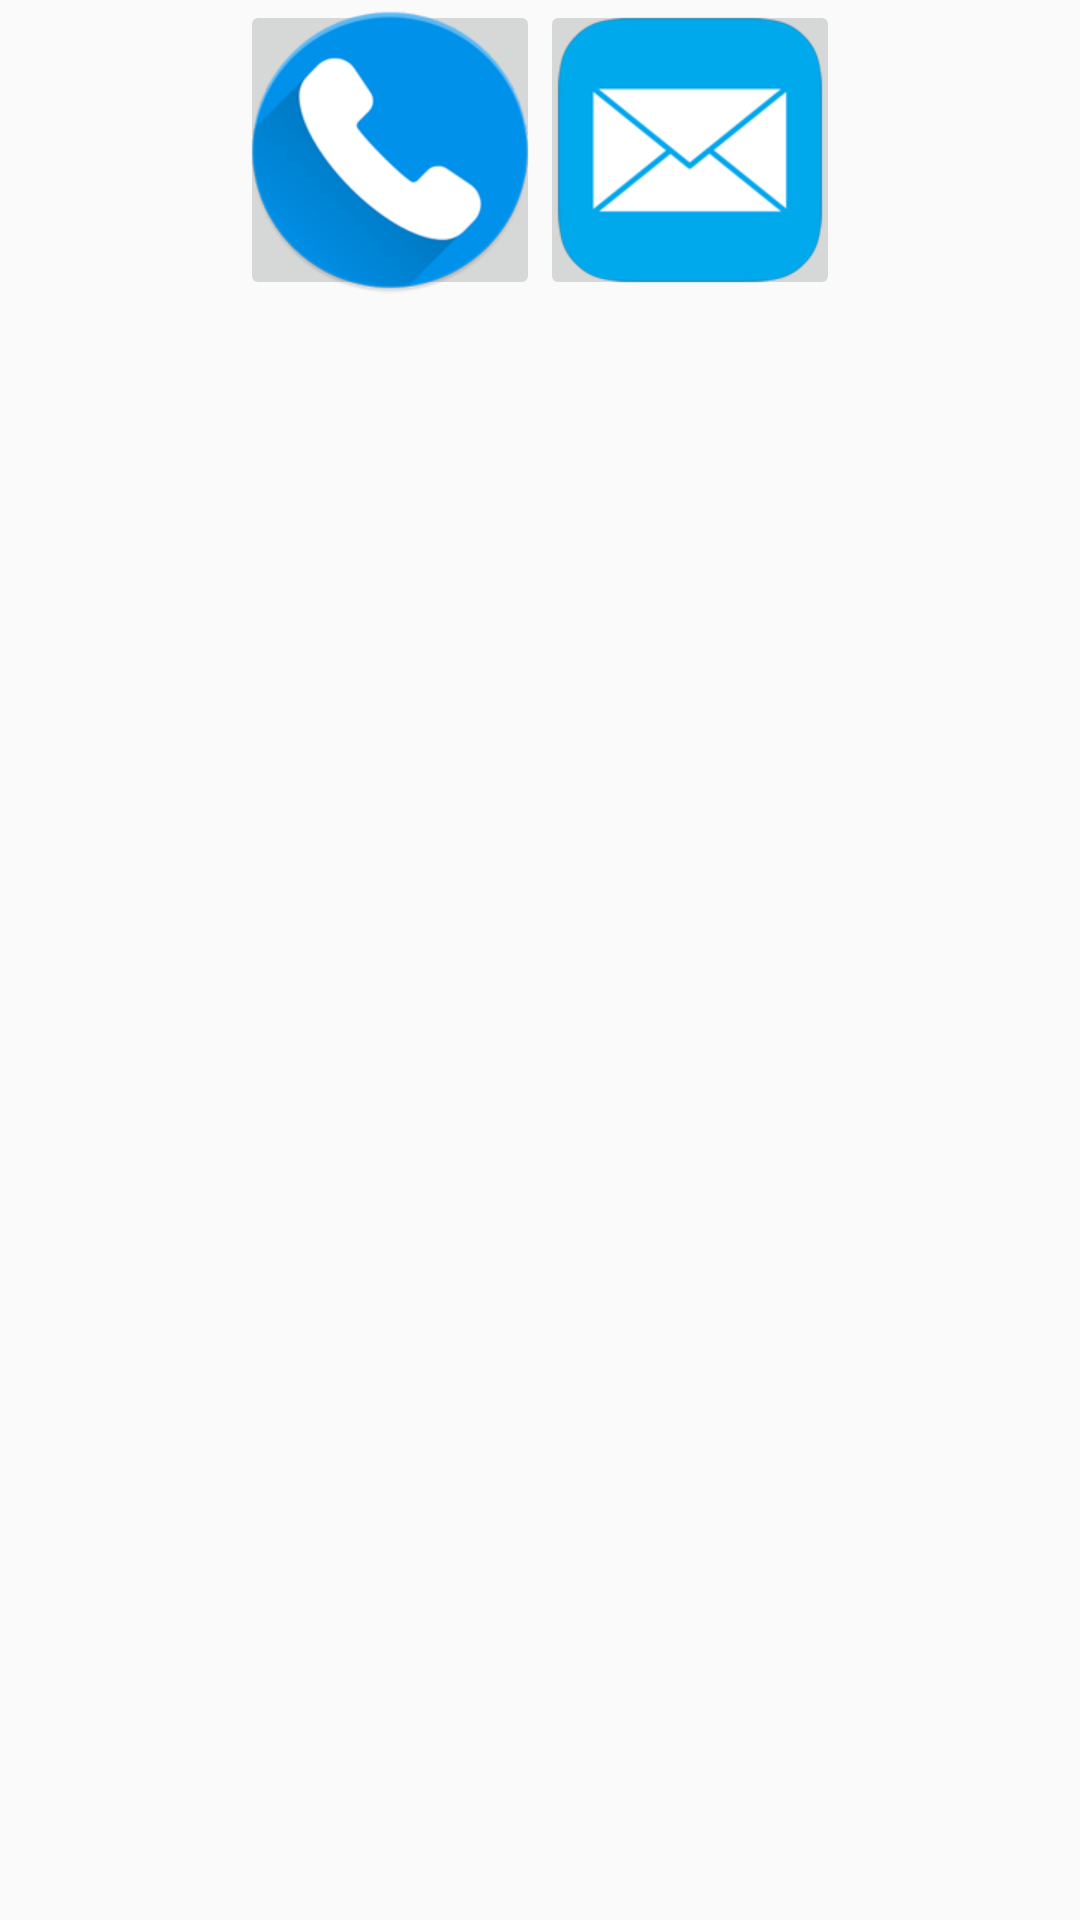

Point at icon controls on the screen. Image size 1080w x 1920h, points as (x=x, y=y).
call: (x=390, y=151)
